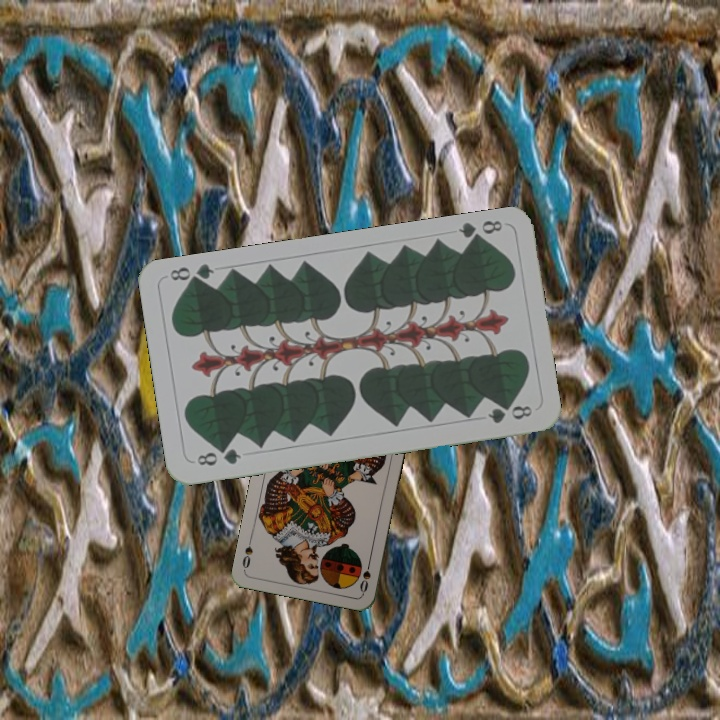G8: (454, 216, 505, 247), (193, 444, 244, 469)
SO: (356, 555, 374, 595)
